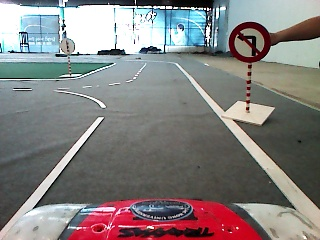ban_left: (229, 21, 271, 62)
